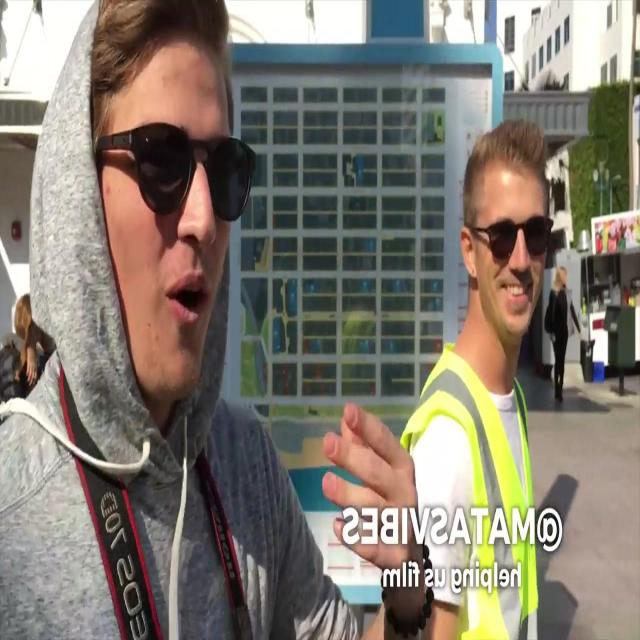Reflective-Jacket: (1, 366, 292, 640), (386, 335, 542, 639)
